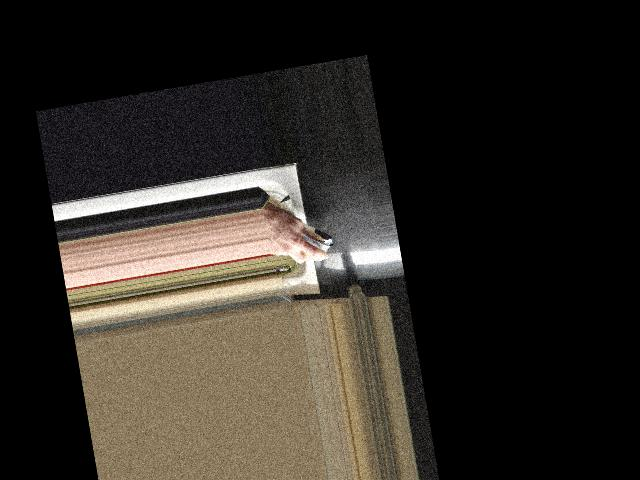cheese: (267, 209, 337, 265)
